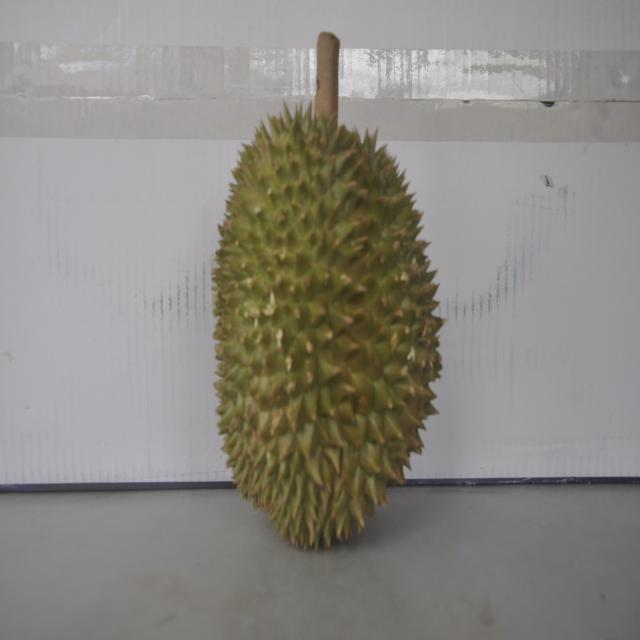mature: (212, 107, 443, 548)
